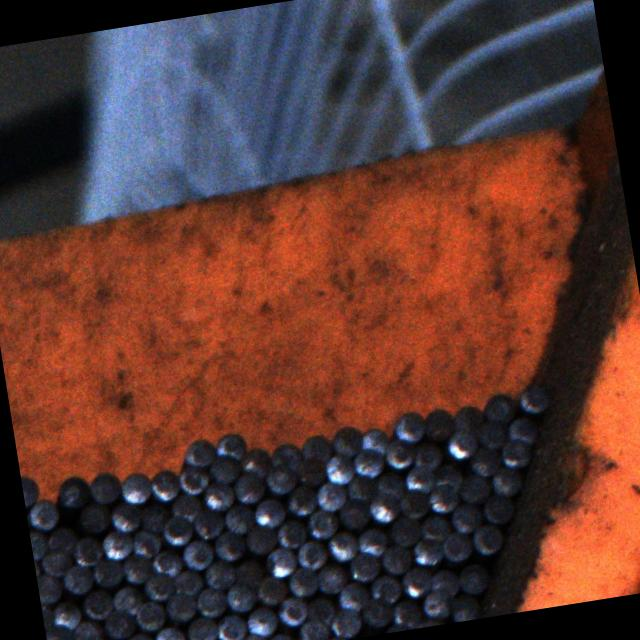tool: (224, 542, 280, 596), (314, 558, 352, 595), (448, 499, 486, 535), (111, 582, 148, 618), (251, 494, 288, 530), (86, 468, 122, 505), (480, 391, 518, 426), (334, 578, 373, 612), (54, 472, 90, 508), (368, 571, 404, 607), (326, 528, 362, 564), (420, 406, 456, 442), (346, 549, 384, 583), (506, 414, 544, 448), (294, 536, 330, 571), (388, 513, 424, 548), (418, 509, 454, 544), (330, 422, 365, 458), (516, 380, 552, 415), (200, 479, 237, 513), (119, 469, 153, 506), (456, 472, 493, 506), (468, 443, 503, 478), (409, 436, 444, 471), (101, 606, 137, 640), (132, 598, 168, 632), (212, 528, 248, 562), (274, 516, 310, 550), (69, 534, 105, 568), (109, 498, 143, 534), (26, 496, 60, 532), (408, 535, 444, 569), (480, 491, 516, 525), (337, 495, 373, 529), (370, 466, 406, 500), (194, 584, 228, 619), (243, 522, 278, 556), (232, 470, 266, 505), (148, 467, 182, 502), (238, 445, 272, 480), (457, 561, 492, 595), (440, 528, 474, 563), (392, 409, 426, 444), (76, 500, 112, 533), (382, 436, 415, 472), (245, 602, 279, 636), (164, 590, 198, 624), (254, 572, 288, 606), (264, 544, 298, 578), (264, 462, 298, 496), (378, 542, 412, 576), (358, 524, 392, 558), (208, 451, 243, 484), (328, 605, 363, 638), (359, 595, 394, 628), (351, 445, 386, 478), (170, 567, 206, 599), (90, 556, 126, 588), (44, 522, 80, 554), (268, 439, 304, 471), (470, 522, 506, 554), (225, 580, 258, 614), (40, 545, 74, 578), (160, 514, 193, 548), (182, 436, 216, 469), (214, 429, 248, 462), (390, 595, 423, 629), (306, 590, 339, 624), (306, 507, 340, 540), (490, 465, 524, 498), (202, 559, 237, 591), (168, 491, 203, 523), (343, 472, 378, 504), (444, 428, 479, 460), (150, 547, 186, 578), (315, 479, 348, 512), (82, 587, 114, 621), (60, 562, 94, 594), (182, 538, 216, 570), (190, 506, 224, 538), (285, 484, 319, 516), (420, 588, 454, 620), (400, 564, 432, 598), (286, 564, 318, 598), (396, 488, 430, 520), (403, 462, 435, 496), (432, 460, 466, 492), (498, 436, 532, 468), (360, 423, 392, 457), (452, 402, 486, 434), (50, 598, 83, 630), (100, 528, 132, 561), (177, 464, 210, 496), (301, 432, 334, 464), (448, 591, 481, 623), (369, 491, 401, 524), (426, 482, 459, 514), (276, 594, 308, 626), (142, 570, 174, 602), (122, 552, 154, 584), (130, 526, 162, 558), (294, 456, 326, 488), (429, 566, 461, 598), (324, 452, 356, 484), (476, 418, 508, 450), (140, 501, 171, 534), (222, 502, 256, 532), (215, 611, 249, 640), (184, 613, 218, 640), (36, 572, 64, 604), (70, 616, 106, 640), (297, 615, 331, 640), (20, 474, 42, 507), (152, 622, 187, 640), (30, 529, 50, 559), (44, 621, 73, 640), (266, 629, 299, 640), (235, 631, 268, 640), (123, 631, 156, 640)
